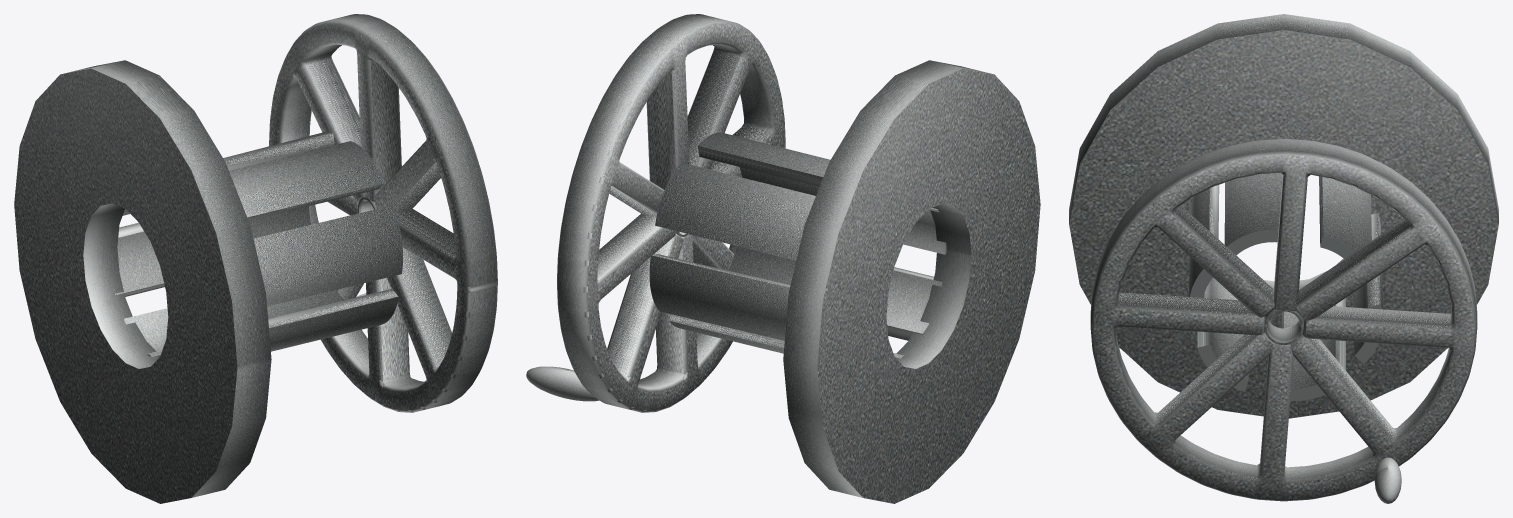
The model's file is 回転部分.fbx.
3 renders of one model, left to right at view 1: azimuth 30°, elevation 25°; view 2: azimuth 150°, elevation 25°; view 3: azimuth 270°, elevation 25°, orthographic. The views are drawn at different scales.
Visible parts, largest first — view 1: ハンドル; view 2: ハンドル; view 3: ハンドル.
Part boxes in pixels (bbox=[...]): ハンドル: bbox=[14, 14, 497, 503]; ハンドル: bbox=[526, 14, 1040, 503]; ハンドル: bbox=[1069, 14, 1498, 503].
Size of the model in its own units: 128 by 142 by 142.
